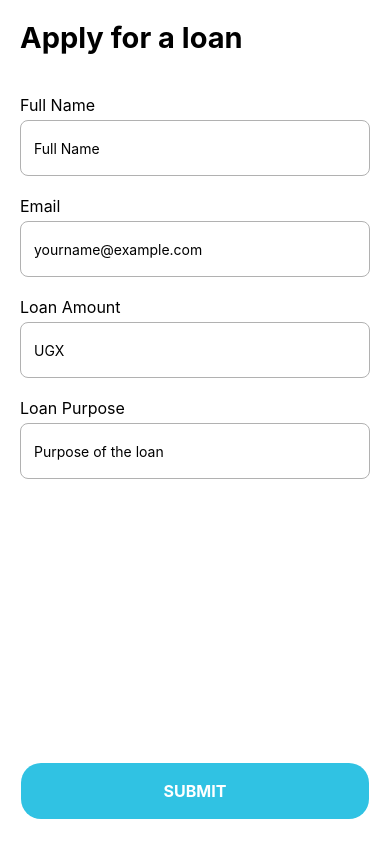
Test: ApplyLoan Screen › displays validation errors when fields are empty
The image size is (390, 844).
What coordinates should you click on to do the following:
click the text "SUBMIT"
I would click on:
 (195, 791)
Its box is x1=164 y1=781 x2=226 y2=801.
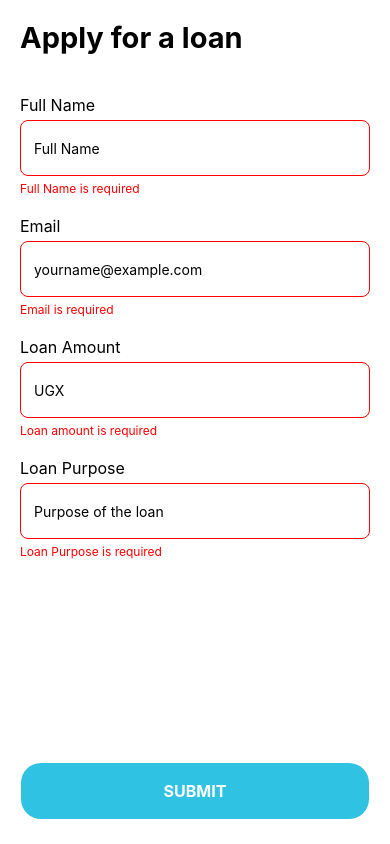
Check: the text "Full Name is required" is shown, box x1=20 y1=181 x2=140 y2=196
Check: the text "Email is required" is shown, box x1=20 y1=302 x2=114 y2=317
Check: the text "Loan amount is required" is shown, box x1=20 y1=423 x2=157 y2=438
